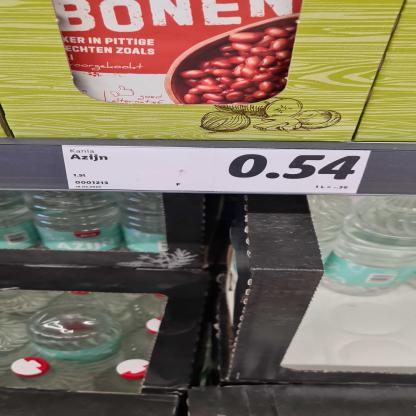prtg: (63, 146, 371, 195)
